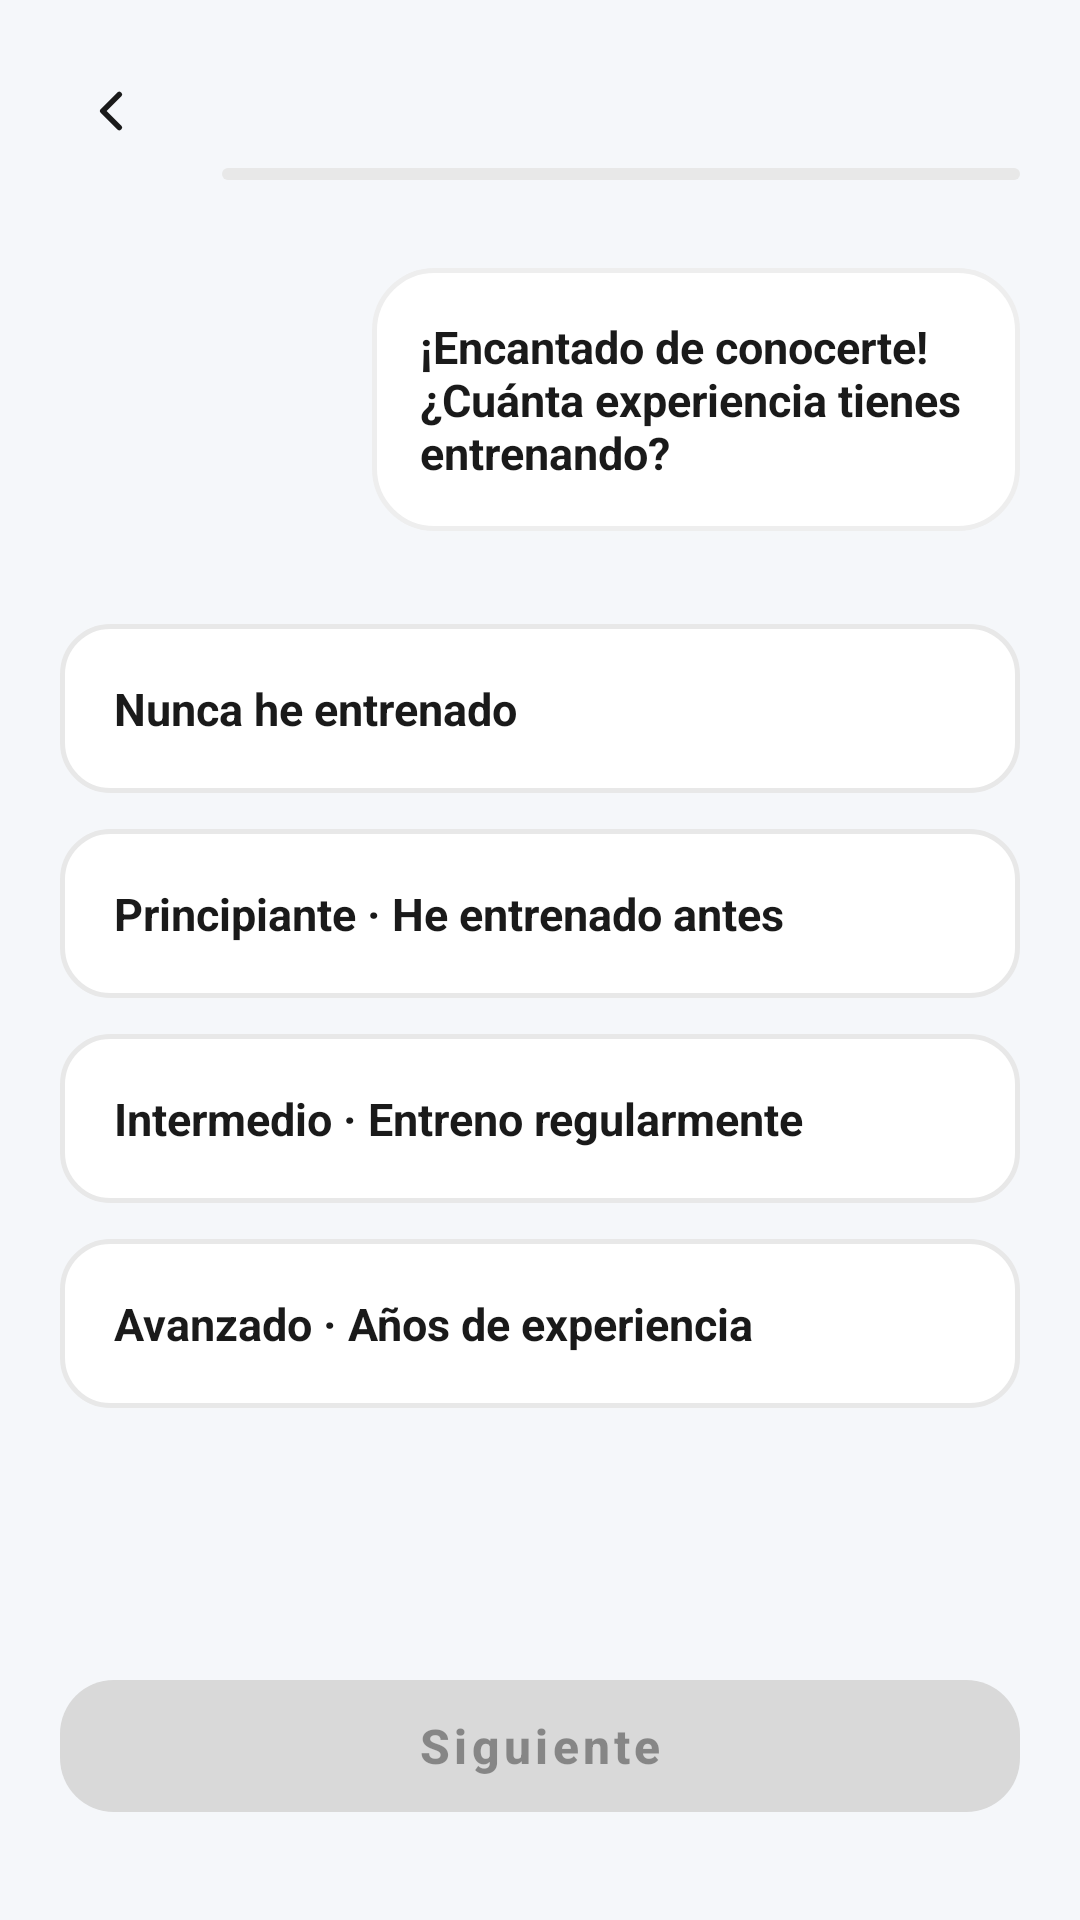

Icons on this 1080px x 1920px Android screen, each with the point to tap as point (x, y):
Volver: point (111, 111)
